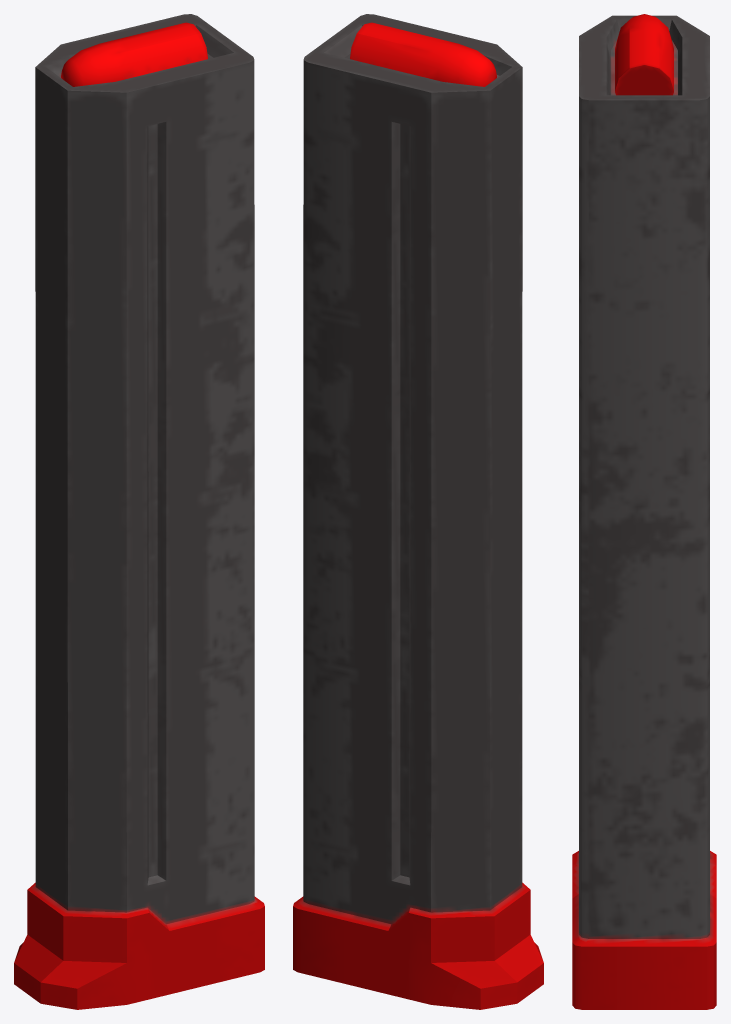
The model's file is Gun_SMG_Ammo_Red.obj.
The picture shows the model from 3 angles, left to right: view 1: azimuth 30°, elevation 25°; view 2: azimuth 150°, elevation 25°; view 3: azimuth 270°, elevation 25°; orthographic projection.
Parts seen in each view (by area): view 1: Gun_SMG_Ammo_Red_Cube.020; view 2: Gun_SMG_Ammo_Red_Cube.020; view 3: Gun_SMG_Ammo_Red_Cube.020.
Part boxes in pixels (x1=…): Gun_SMG_Ammo_Red_Cube.020: x1=14, y1=14, x2=264, y2=1009; Gun_SMG_Ammo_Red_Cube.020: x1=293, y1=14, x2=543, y2=1009; Gun_SMG_Ammo_Red_Cube.020: x1=572, y1=14, x2=716, y2=1009.
Size of the model in its own units: 0.0642 by 0.2772 by 0.0391.
